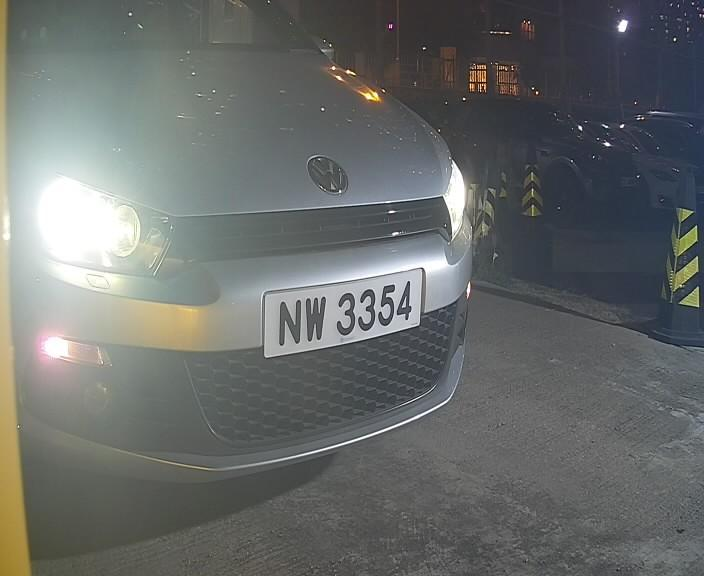privatecar: (4, 16, 503, 502)
